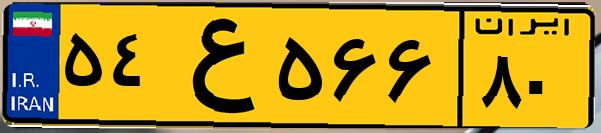0: (525, 38, 570, 115)
4: (110, 28, 158, 98)
5: (270, 28, 330, 110), (57, 26, 110, 100)
6: (385, 28, 445, 110), (330, 28, 385, 110)
8: (475, 38, 525, 113)
ع: (158, 12, 270, 120)
